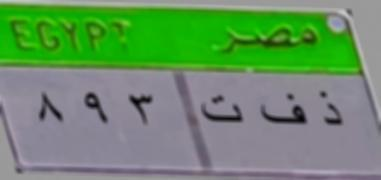3: (126, 89, 160, 134)
8: (32, 84, 66, 131)
9: (79, 84, 112, 136)
faa: (256, 88, 307, 137)
taa: (196, 90, 246, 131)
zaal: (316, 86, 346, 137)
